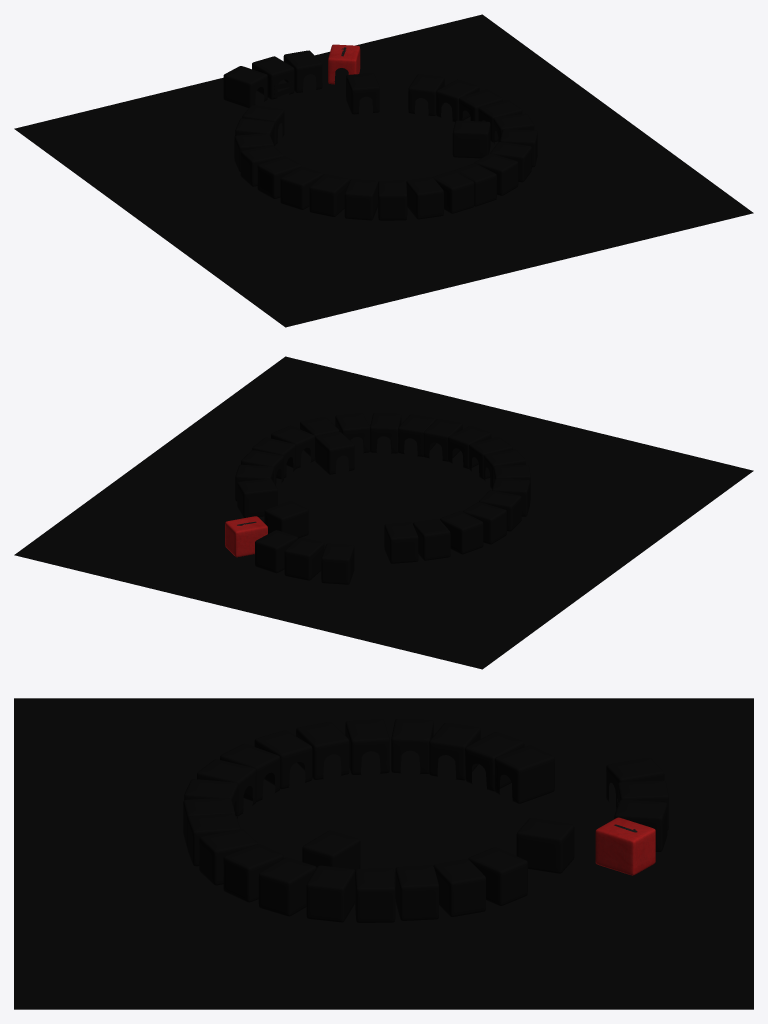
File: cuyO.glb
The picture shows the model from 3 angles, top to bottom: view 1: azimuth 30°, elevation 25°; view 2: azimuth 150°, elevation 25°; view 3: azimuth 270°, elevation 25°; orthographic projection. The views are drawn at different scales.
Parts seen in each view (by area): view 1: Plane002, Box008, Box035.001, Box023, Box019, Box024, Box028, Box027, Box021, Box026, Box014, Box033 (+15 smaller); view 2: Plane002, Box009, Box016, Box020, Box013, Box017, Box008, Box014, Box022, Box035.001, Box003, Box029 (+15 smaller); view 3: Plane002, Box013, Box014, Box017, Box035, Box031, Box015, Box016, Box018, Box030, Box032, Box027 (+15 smaller).
Boxes of the visible parts, x1,y1,x2,y2 form: Plane002: [14, 14, 753, 327]; Box008: [223, 66, 267, 107]; Box035.001: [452, 120, 490, 158]; Box023: [309, 174, 349, 216]; Box019: [406, 177, 443, 219]; Box024: [344, 179, 377, 220]; Box028: [432, 170, 474, 213]; Box027: [280, 167, 323, 209]; Box021: [378, 180, 407, 220]; Box026: [257, 156, 301, 198]; Box014: [346, 73, 379, 114]; Box033: [474, 153, 518, 195]; Plane002: [14, 356, 753, 669]; Box009: [284, 538, 324, 580]; Box016: [237, 478, 277, 517]; Box020: [440, 511, 483, 554]; Box013: [225, 516, 267, 557]; Box017: [384, 522, 418, 563]; Box008: [321, 543, 354, 584]; Box014: [264, 501, 308, 538]; Box022: [413, 519, 450, 560]; Box035.001: [315, 432, 354, 474]; Box003: [255, 530, 297, 573]; Box029: [463, 502, 506, 544]; Plane002: [14, 698, 753, 1009]; Box013: [595, 817, 655, 875]; Box014: [516, 818, 574, 873]; Box017: [494, 745, 554, 803]; Box035: [258, 857, 316, 916]; Box031: [306, 865, 354, 922]; Box015: [433, 859, 485, 916]; Box016: [468, 847, 527, 905]; Box018: [395, 865, 438, 920]; Box030: [355, 868, 395, 922]; Box032: [223, 844, 283, 902]; Box027: [296, 722, 349, 779].
Size of the model in its own units: 18.71 by 1.62 by 18.78.
27 materials, 1 textured.
